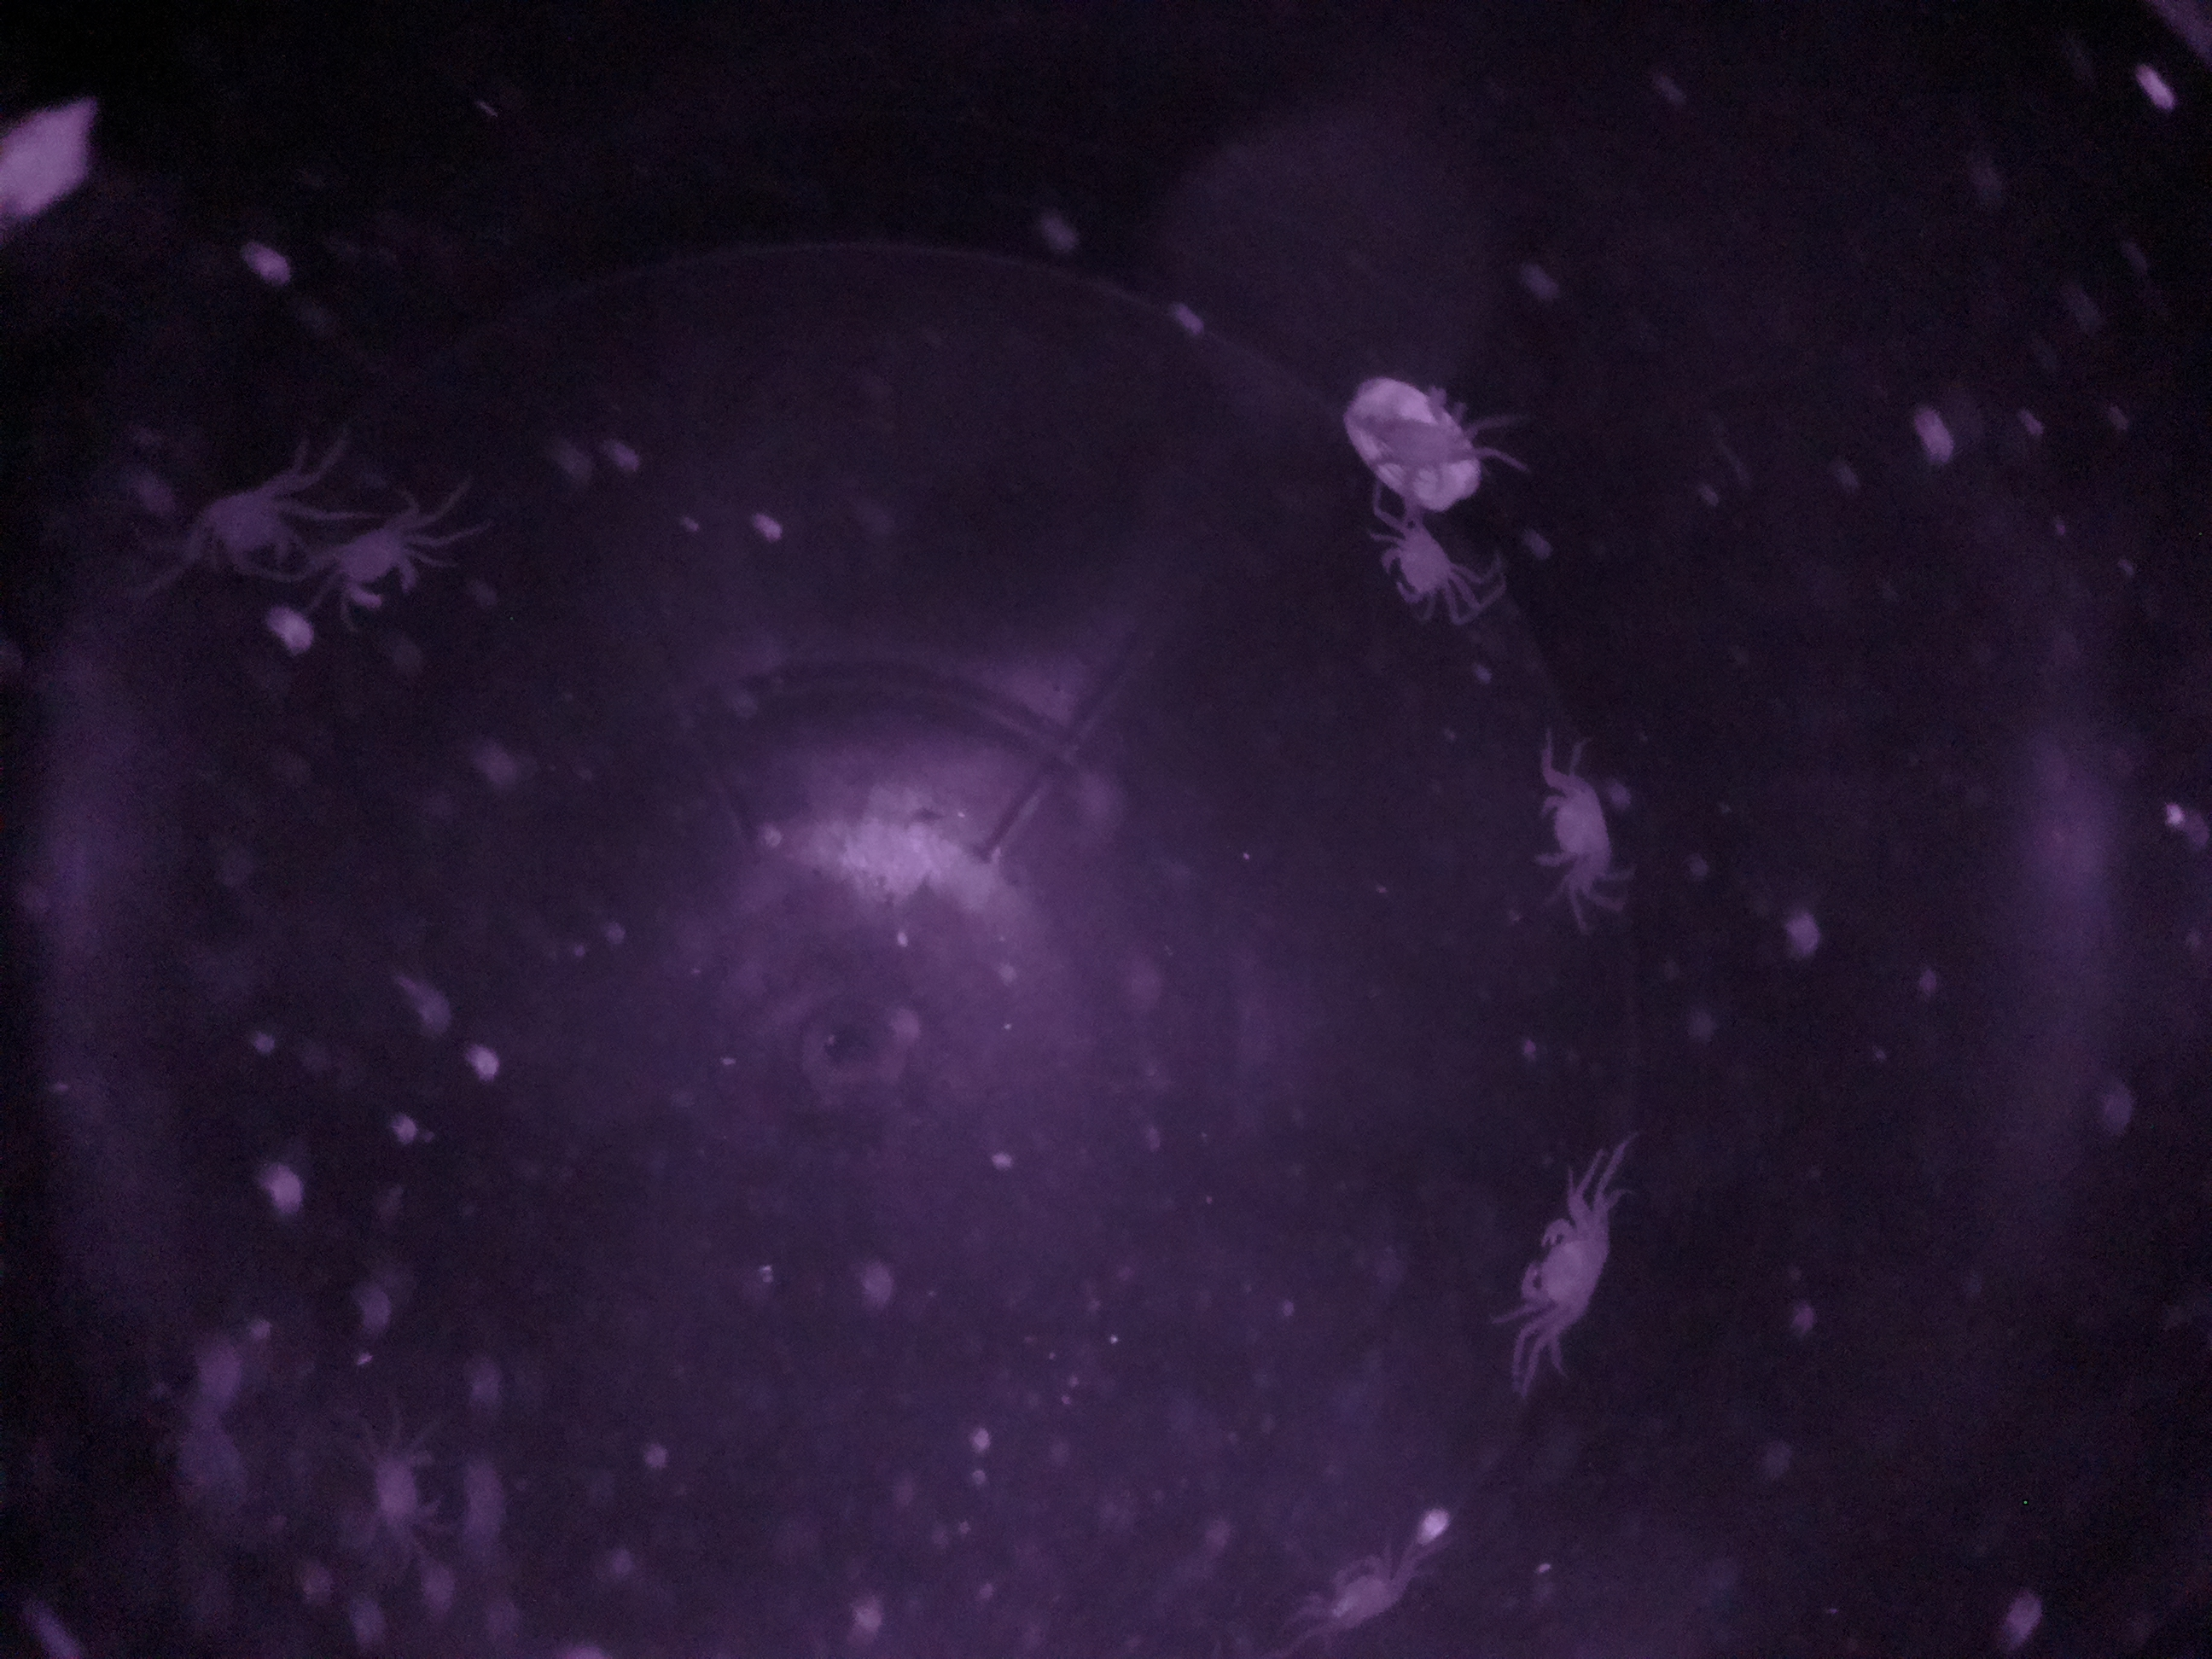Crab: (1487, 1195, 1625, 1344), (314, 495, 432, 636), (1507, 760, 1627, 890), (1357, 514, 1472, 622)
